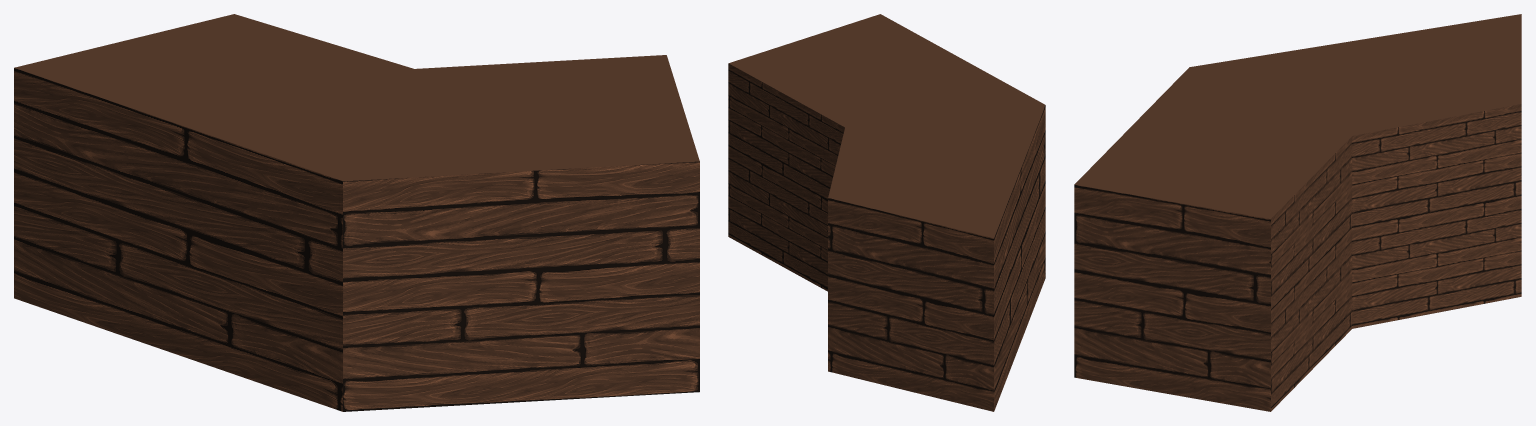
The model's file is muro_angolo_45_gradi_per_andare_dritto_2.fbx.
The picture shows the model from 3 angles, left to right: view 1: azimuth 30°, elevation 25°; view 2: azimuth 150°, elevation 25°; view 3: azimuth 270°, elevation 25°; orthographic projection. The views are drawn at different scales.
Visible parts, largest first — view 1: Muro_angolo_45_gradi per andare dritto; view 2: Muro_angolo_45_gradi per andare dritto; view 3: Muro_angolo_45_gradi per andare dritto.
Boxes of the visible parts, x1,y1,x2,y2 form: Muro_angolo_45_gradi per andare dritto: [14, 14, 699, 411]; Muro_angolo_45_gradi per andare dritto: [728, 14, 1045, 411]; Muro_angolo_45_gradi per andare dritto: [1074, 14, 1521, 411].
Size of the model in its own units: 456 by 200 by 421.
Materials: 2 (2 with a texture image).
